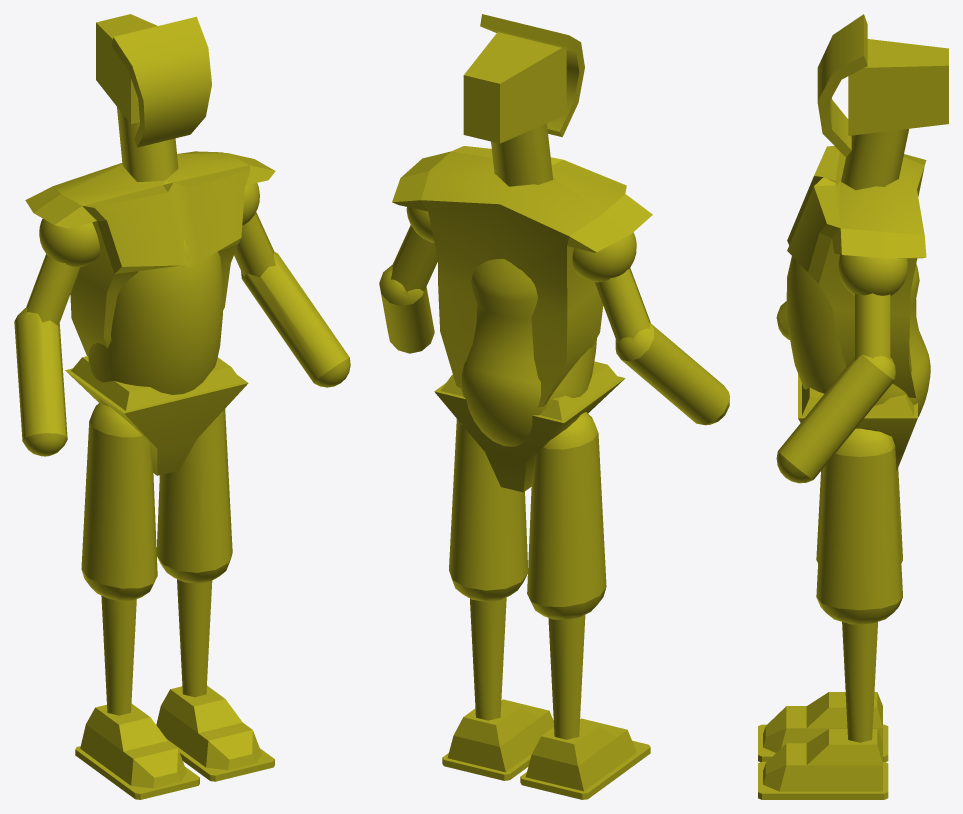
File: Zoe.FBX
3 views of the same model, side by side, from view 1: azimuth 30°, elevation 25°; view 2: azimuth 150°, elevation 25°; view 3: azimuth 270°, elevation 25° (orthographic). The views are drawn at different scales.
Visible parts, largest first — view 1: Box178, Sphere021, OilTank028, OilTank029, Box179, Box180, Box181, Box182, OilTank027, OilTank030, Cylinder182, Cylinder183 (+5 smaller); view 2: Box178, OilTank028, Sphere021, OilTank029, Box183, Box181, Box180, Box182, OilTank027, Cylinder182, Cylinder183, OilTank030 (+5 smaller); view 3: Box178, OilTank029, Box183, Box182, Sphere021, OilTank030, Box181, Box179, Cylinder183, Cylinder179, Box180, Sphere022 (+2 smaller).
Part boxes in pixels (bbox=[...]): Box178: bbox=[25, 151, 275, 355]; Sphere021: bbox=[88, 240, 222, 406]; OilTank028: bbox=[81, 403, 157, 600]; OilTank029: bbox=[156, 409, 232, 583]; Box179: bbox=[111, 16, 211, 147]; Box180: bbox=[65, 356, 248, 475]; Box181: bbox=[75, 703, 199, 799]; Box182: bbox=[156, 685, 274, 781]; OilTank027: bbox=[14, 307, 67, 456]; OilTank030: bbox=[241, 252, 350, 387]; Cylinder182: bbox=[101, 595, 136, 715]; Cylinder183: bbox=[177, 579, 212, 697]; Box178: bbox=[392, 146, 652, 407]; OilTank028: bbox=[527, 412, 606, 619]; Sphere021: bbox=[461, 259, 596, 446]; OilTank029: bbox=[449, 419, 527, 601]; Box183: bbox=[463, 32, 566, 143]; Box181: bbox=[520, 718, 650, 799]; Box180: bbox=[434, 361, 625, 492]; Box182: bbox=[442, 699, 553, 780]; OilTank027: bbox=[615, 323, 729, 425]; Cylinder182: bbox=[548, 615, 585, 739]; Cylinder183: bbox=[470, 597, 506, 720]; OilTank030: bbox=[379, 264, 434, 353]; Box178: bbox=[787, 146, 926, 397]; OilTank029: bbox=[816, 428, 902, 624]; Box183: bbox=[848, 39, 948, 135]; Box182: bbox=[758, 729, 888, 799]; Sphere021: bbox=[786, 256, 930, 435]; OilTank030: bbox=[776, 355, 895, 483]; Box181: bbox=[758, 692, 888, 762]; Box179: bbox=[817, 14, 867, 157]; Cylinder183: bbox=[842, 622, 877, 742]; Cylinder179: bbox=[841, 129, 908, 190]; Box180: bbox=[798, 374, 917, 470]; Sphere022: bbox=[838, 254, 908, 296].
Size of the model in its own units: 87.03 by 185 by 43.76.
